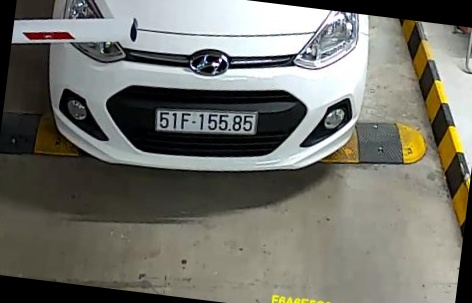plate: (154, 101, 258, 145)
